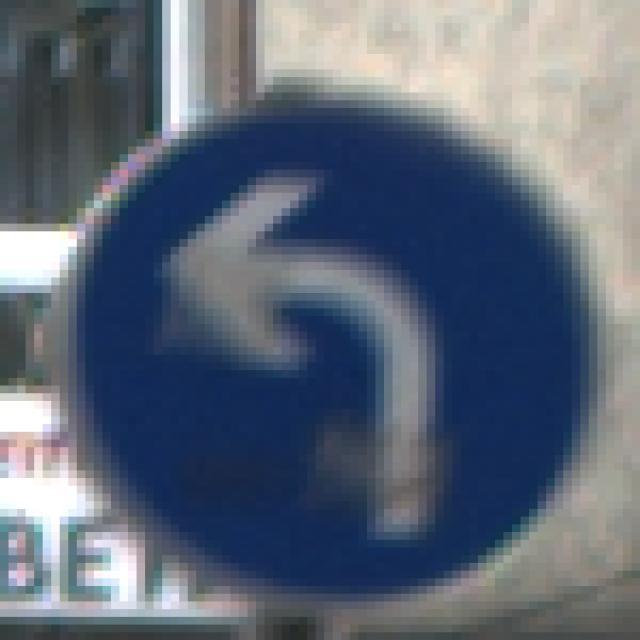compulsary turn left ahead: (37, 73, 616, 614)
